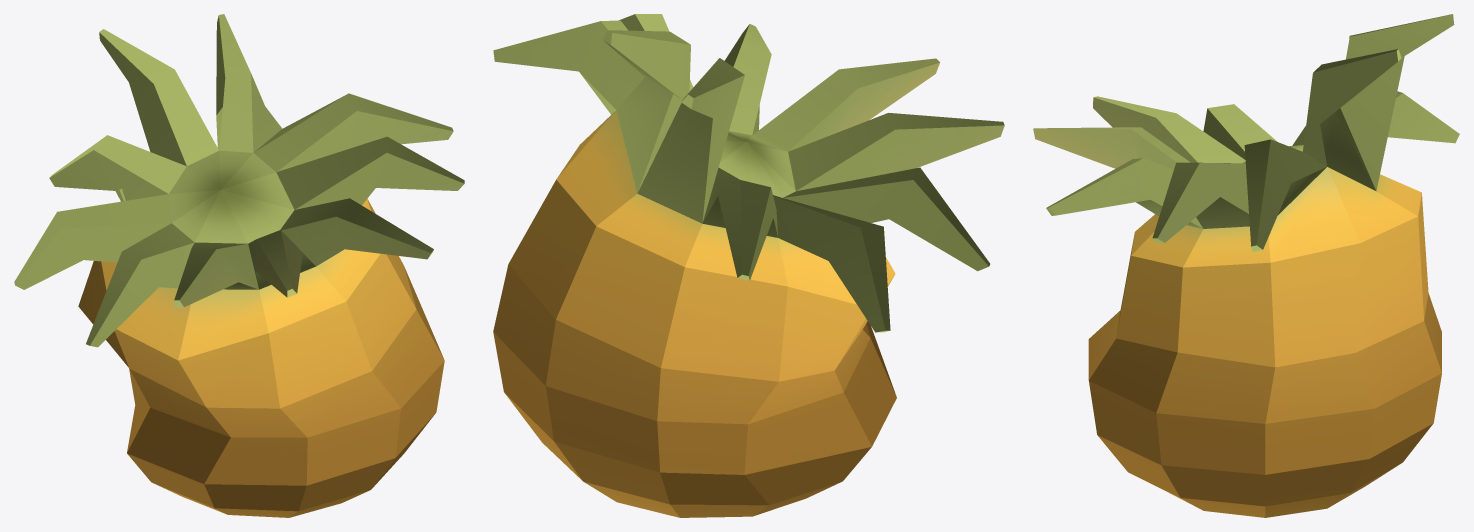
The model's file is pineapple@wilted2.fbx.
3 renders of one model, left to right at view 1: azimuth 30°, elevation 25°; view 2: azimuth 150°, elevation 25°; view 3: azimuth 270°, elevation 25°, orthographic. The views are drawn at different scales.
Parts seen in each view (by area): view 1: pSphere1; view 2: pSphere1; view 3: pSphere1.
Boxes of the visible parts, box(x1,y1,x2,y2) form: pSphere1: box(14, 14, 464, 517); pSphere1: box(493, 14, 1004, 517); pSphere1: box(1033, 14, 1459, 517).
Size of the model in its own units: 20.53 by 21.28 by 18.33.
